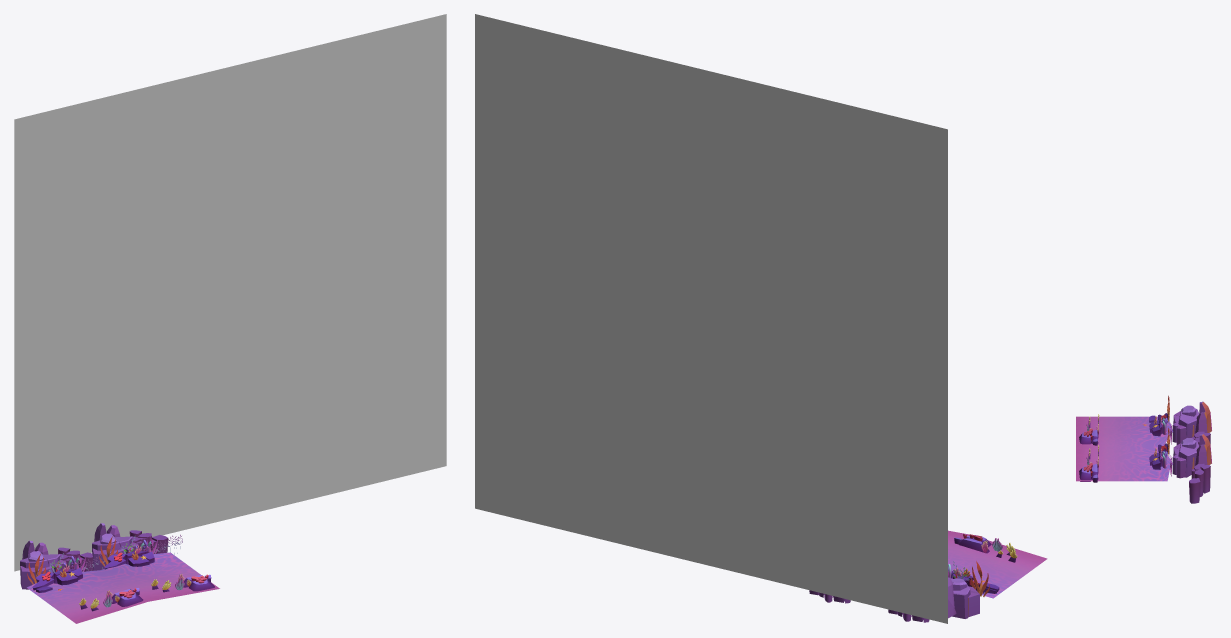
Rendered from Map_Dream Towers_Model.fbx.
The picture shows the model from 3 angles, left to right: view 1: azimuth 30°, elevation 25°; view 2: azimuth 150°, elevation 25°; view 3: azimuth 270°, elevation 25°; orthographic projection. The views are drawn at different scales.
Parts seen in each view (by area): view 1: back ground006, object004, surface002; view 2: back ground006, object004, surface002; view 3: surface002, object004.
Boxes of the visible parts, x1,y1,x2,y2 form: back ground006: (14, 14, 446, 571); object004: (20, 523, 214, 611); surface002: (27, 552, 219, 623); back ground006: (475, 14, 947, 623); object004: (809, 534, 1017, 622); surface002: (948, 530, 1047, 598); surface002: (1076, 416, 1172, 481); object004: (1079, 395, 1211, 503).
Size of the model in its own units: 10545 by 10484 by 3130.
